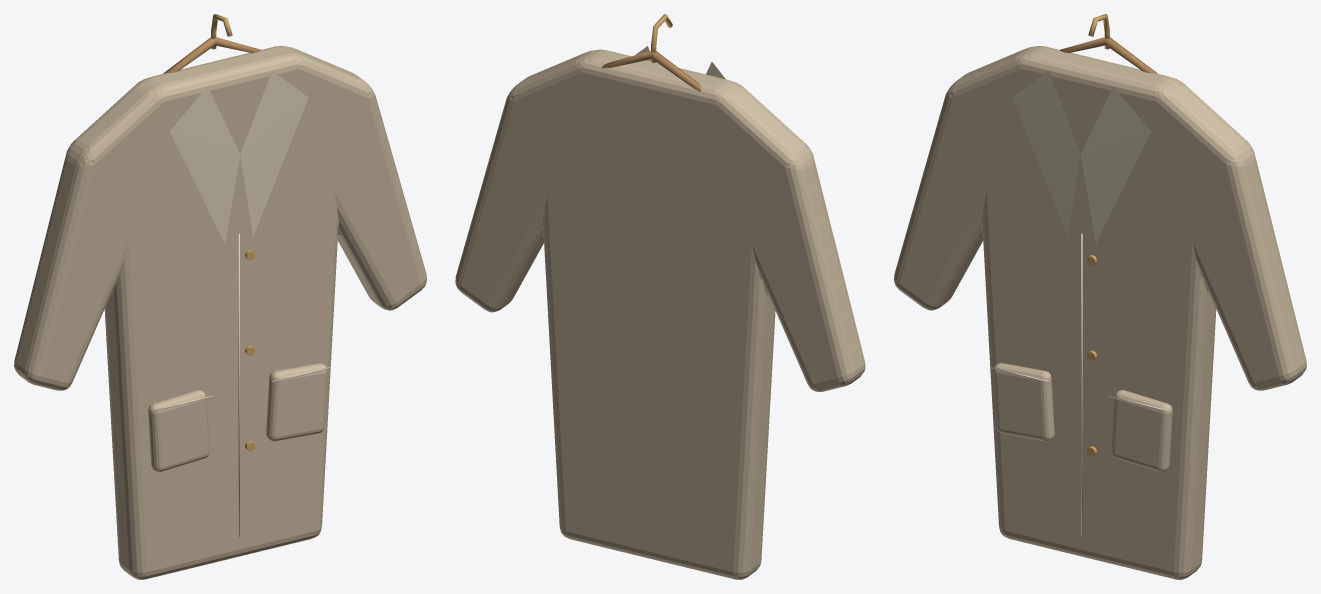
File: Coat.glb
3 renders of one model, left to right at view 1: azimuth 30°, elevation 25°; view 2: azimuth 150°, elevation 25°; view 3: azimuth 330°, elevation 25°, orthographic.
Visible parts, largest first — view 1: Coat_Mesh; view 2: Coat_Mesh; view 3: Coat_Mesh.
Part boxes in pixels (x1,y1,x2,y2): Coat_Mesh: [14, 14, 426, 579]; Coat_Mesh: [455, 14, 865, 579]; Coat_Mesh: [894, 14, 1306, 579].
Size of the model in its own units: 0.5706 by 0.7363 by 0.082.
